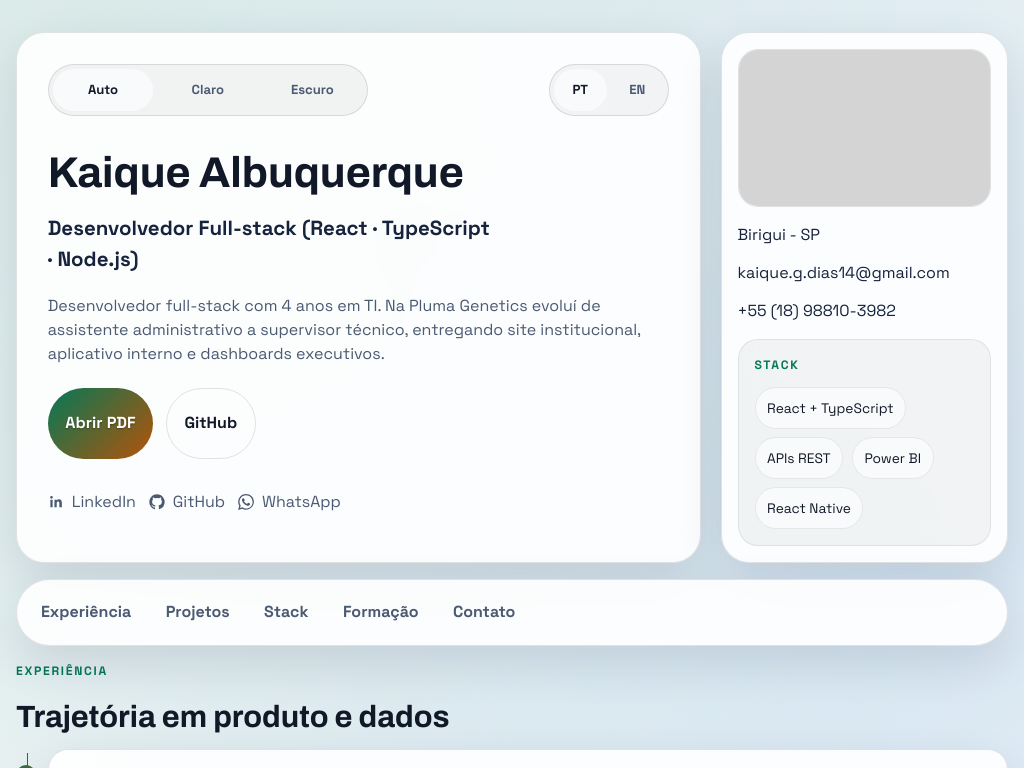
Test: App › traduz os rotulos do seletor de tema
Step 1. Click the button "EN" → (637, 90), box [611,69,664,111]
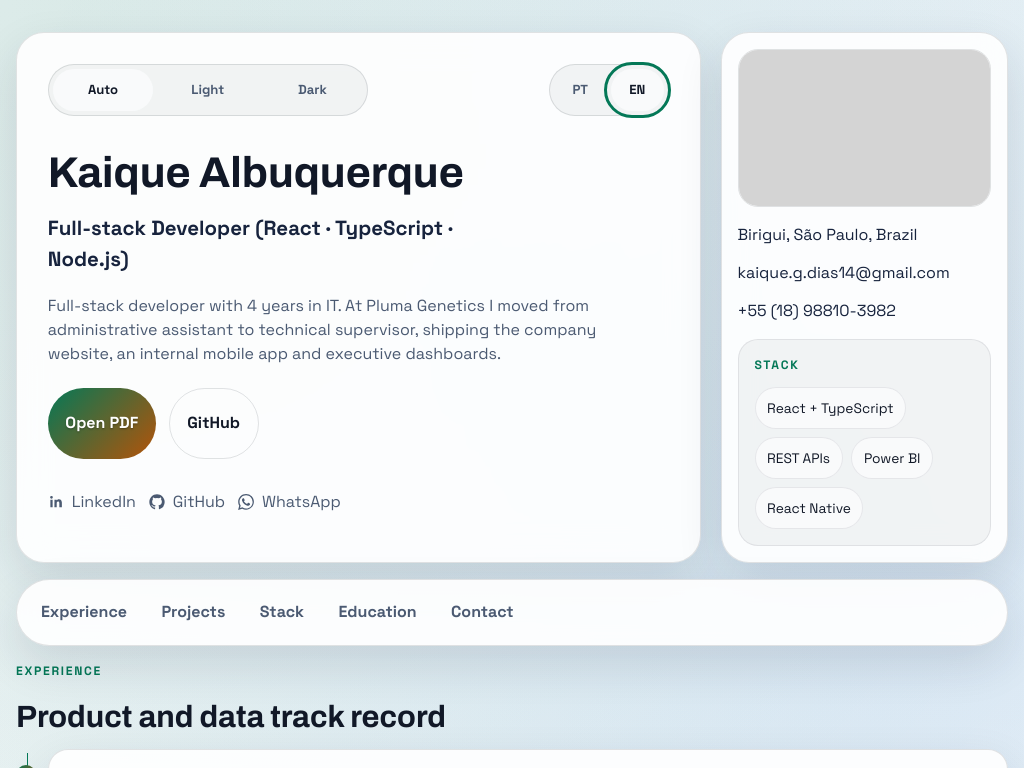
Check: the button "Light" is shown, box [157,69,258,111]
Check: the button "Dark" is shown, box [262,69,363,111]
Check: the button "Claro" is gone
